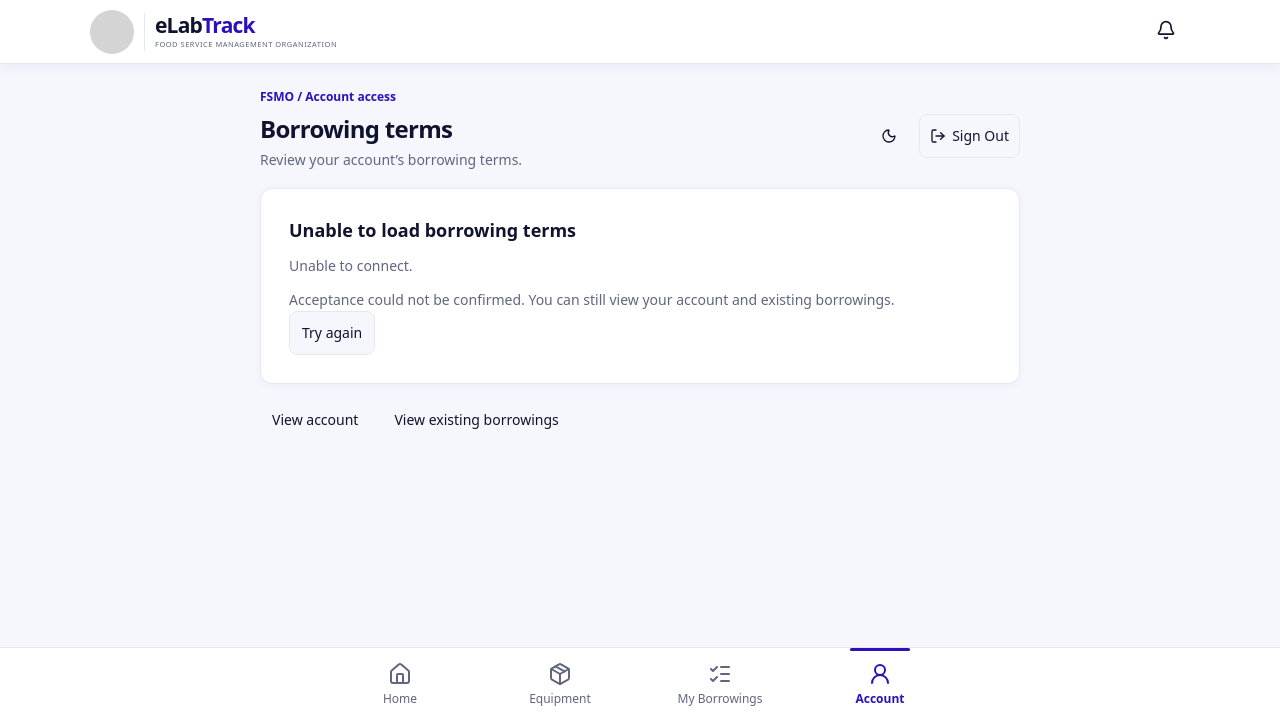
Test: Phase 4B authoritative terms experience › offers bounded manual recovery for terms network failure
This screenshot has width=1280, height=720.
Check: the heading "Unable to load borrowing terms" is shown, box [289, 218, 576, 242]
Click the button "Try again". click: (332, 333)
box: [289, 311, 375, 355]
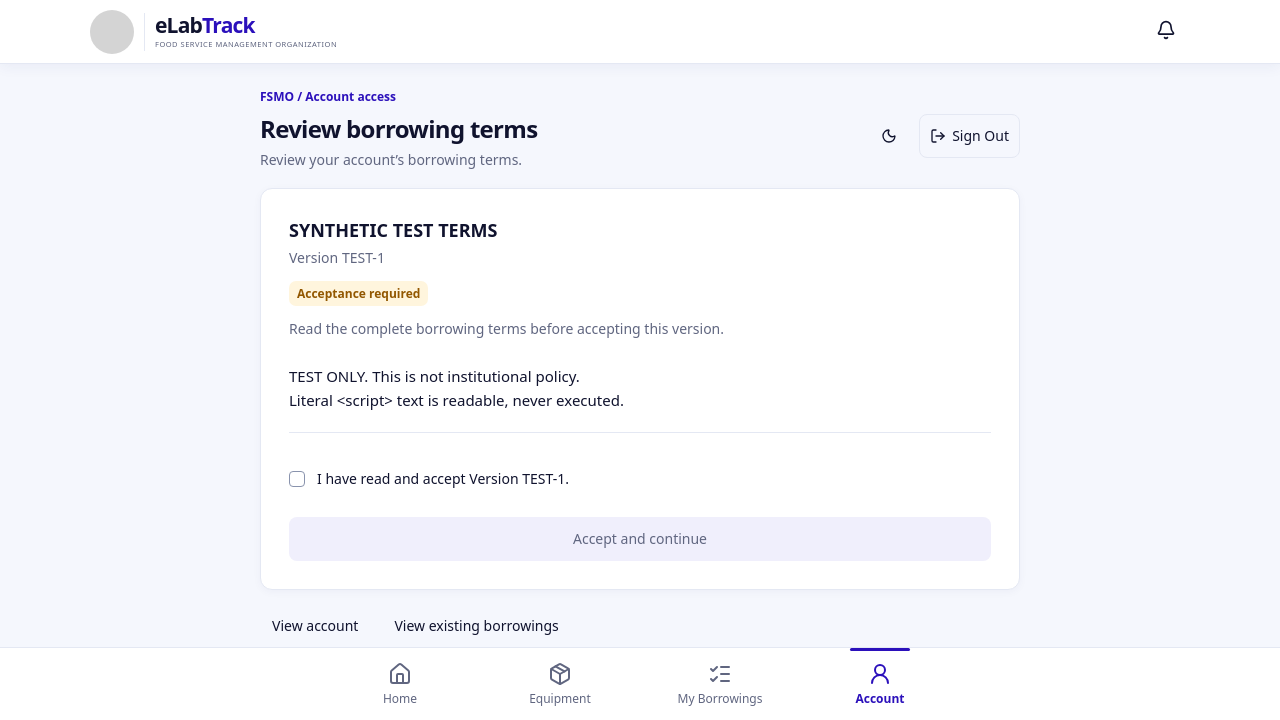
Check: the checkbox is shown, box [289, 471, 305, 487]
